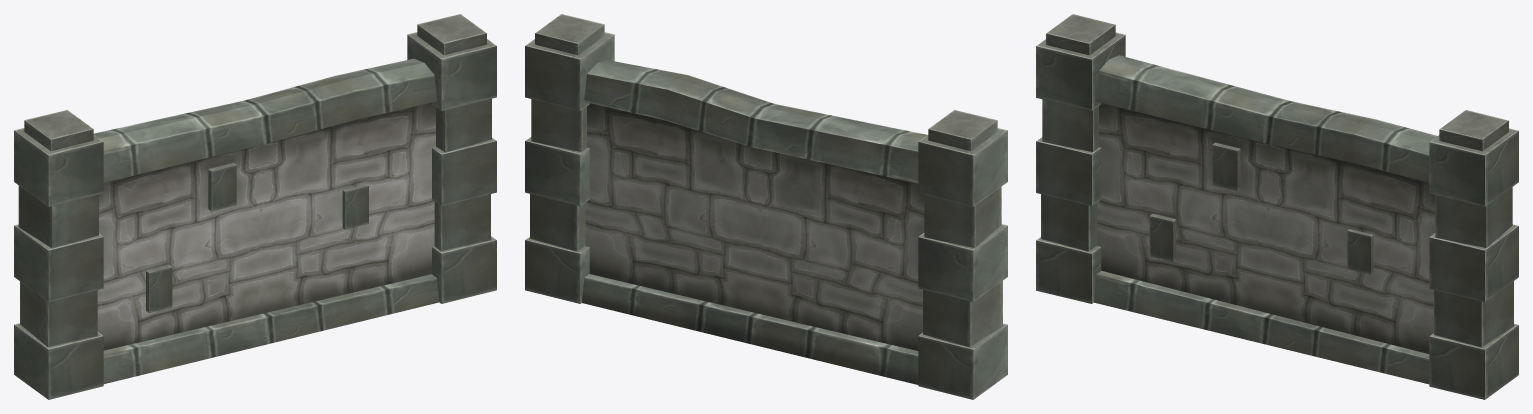
The model's file is wall_01a.fbx.
3 views of the same model, side by side, from view 1: azimuth 30°, elevation 25°; view 2: azimuth 150°, elevation 25°; view 3: azimuth 330°, elevation 25° (orthographic).
Parts seen in each view (by area): view 1: wall_01a:Mesh; view 2: wall_01a:Mesh; view 3: wall_01a:Mesh.
Boxes of the visible parts, left/top/right/bottom form: wall_01a:Mesh: left=14, top=14, right=496, bottom=399; wall_01a:Mesh: left=525, top=14, right=1007, bottom=399; wall_01a:Mesh: left=1036, top=14, right=1518, bottom=399.
Bounding box in the file's own units: 5.15 × 2.81 × 0.6835.
